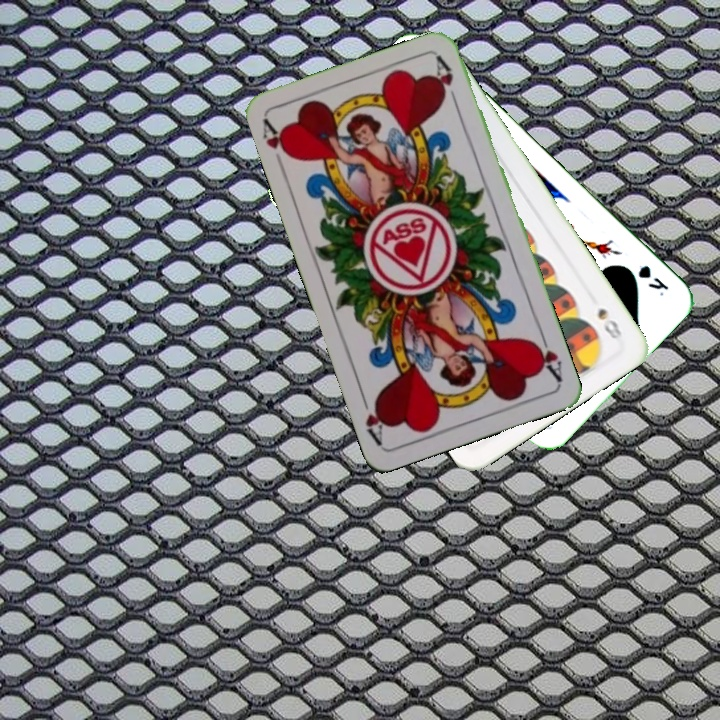GK: (634, 259, 672, 299)
HA: (528, 327, 565, 384), (258, 116, 295, 173)
S8: (593, 304, 625, 342)
